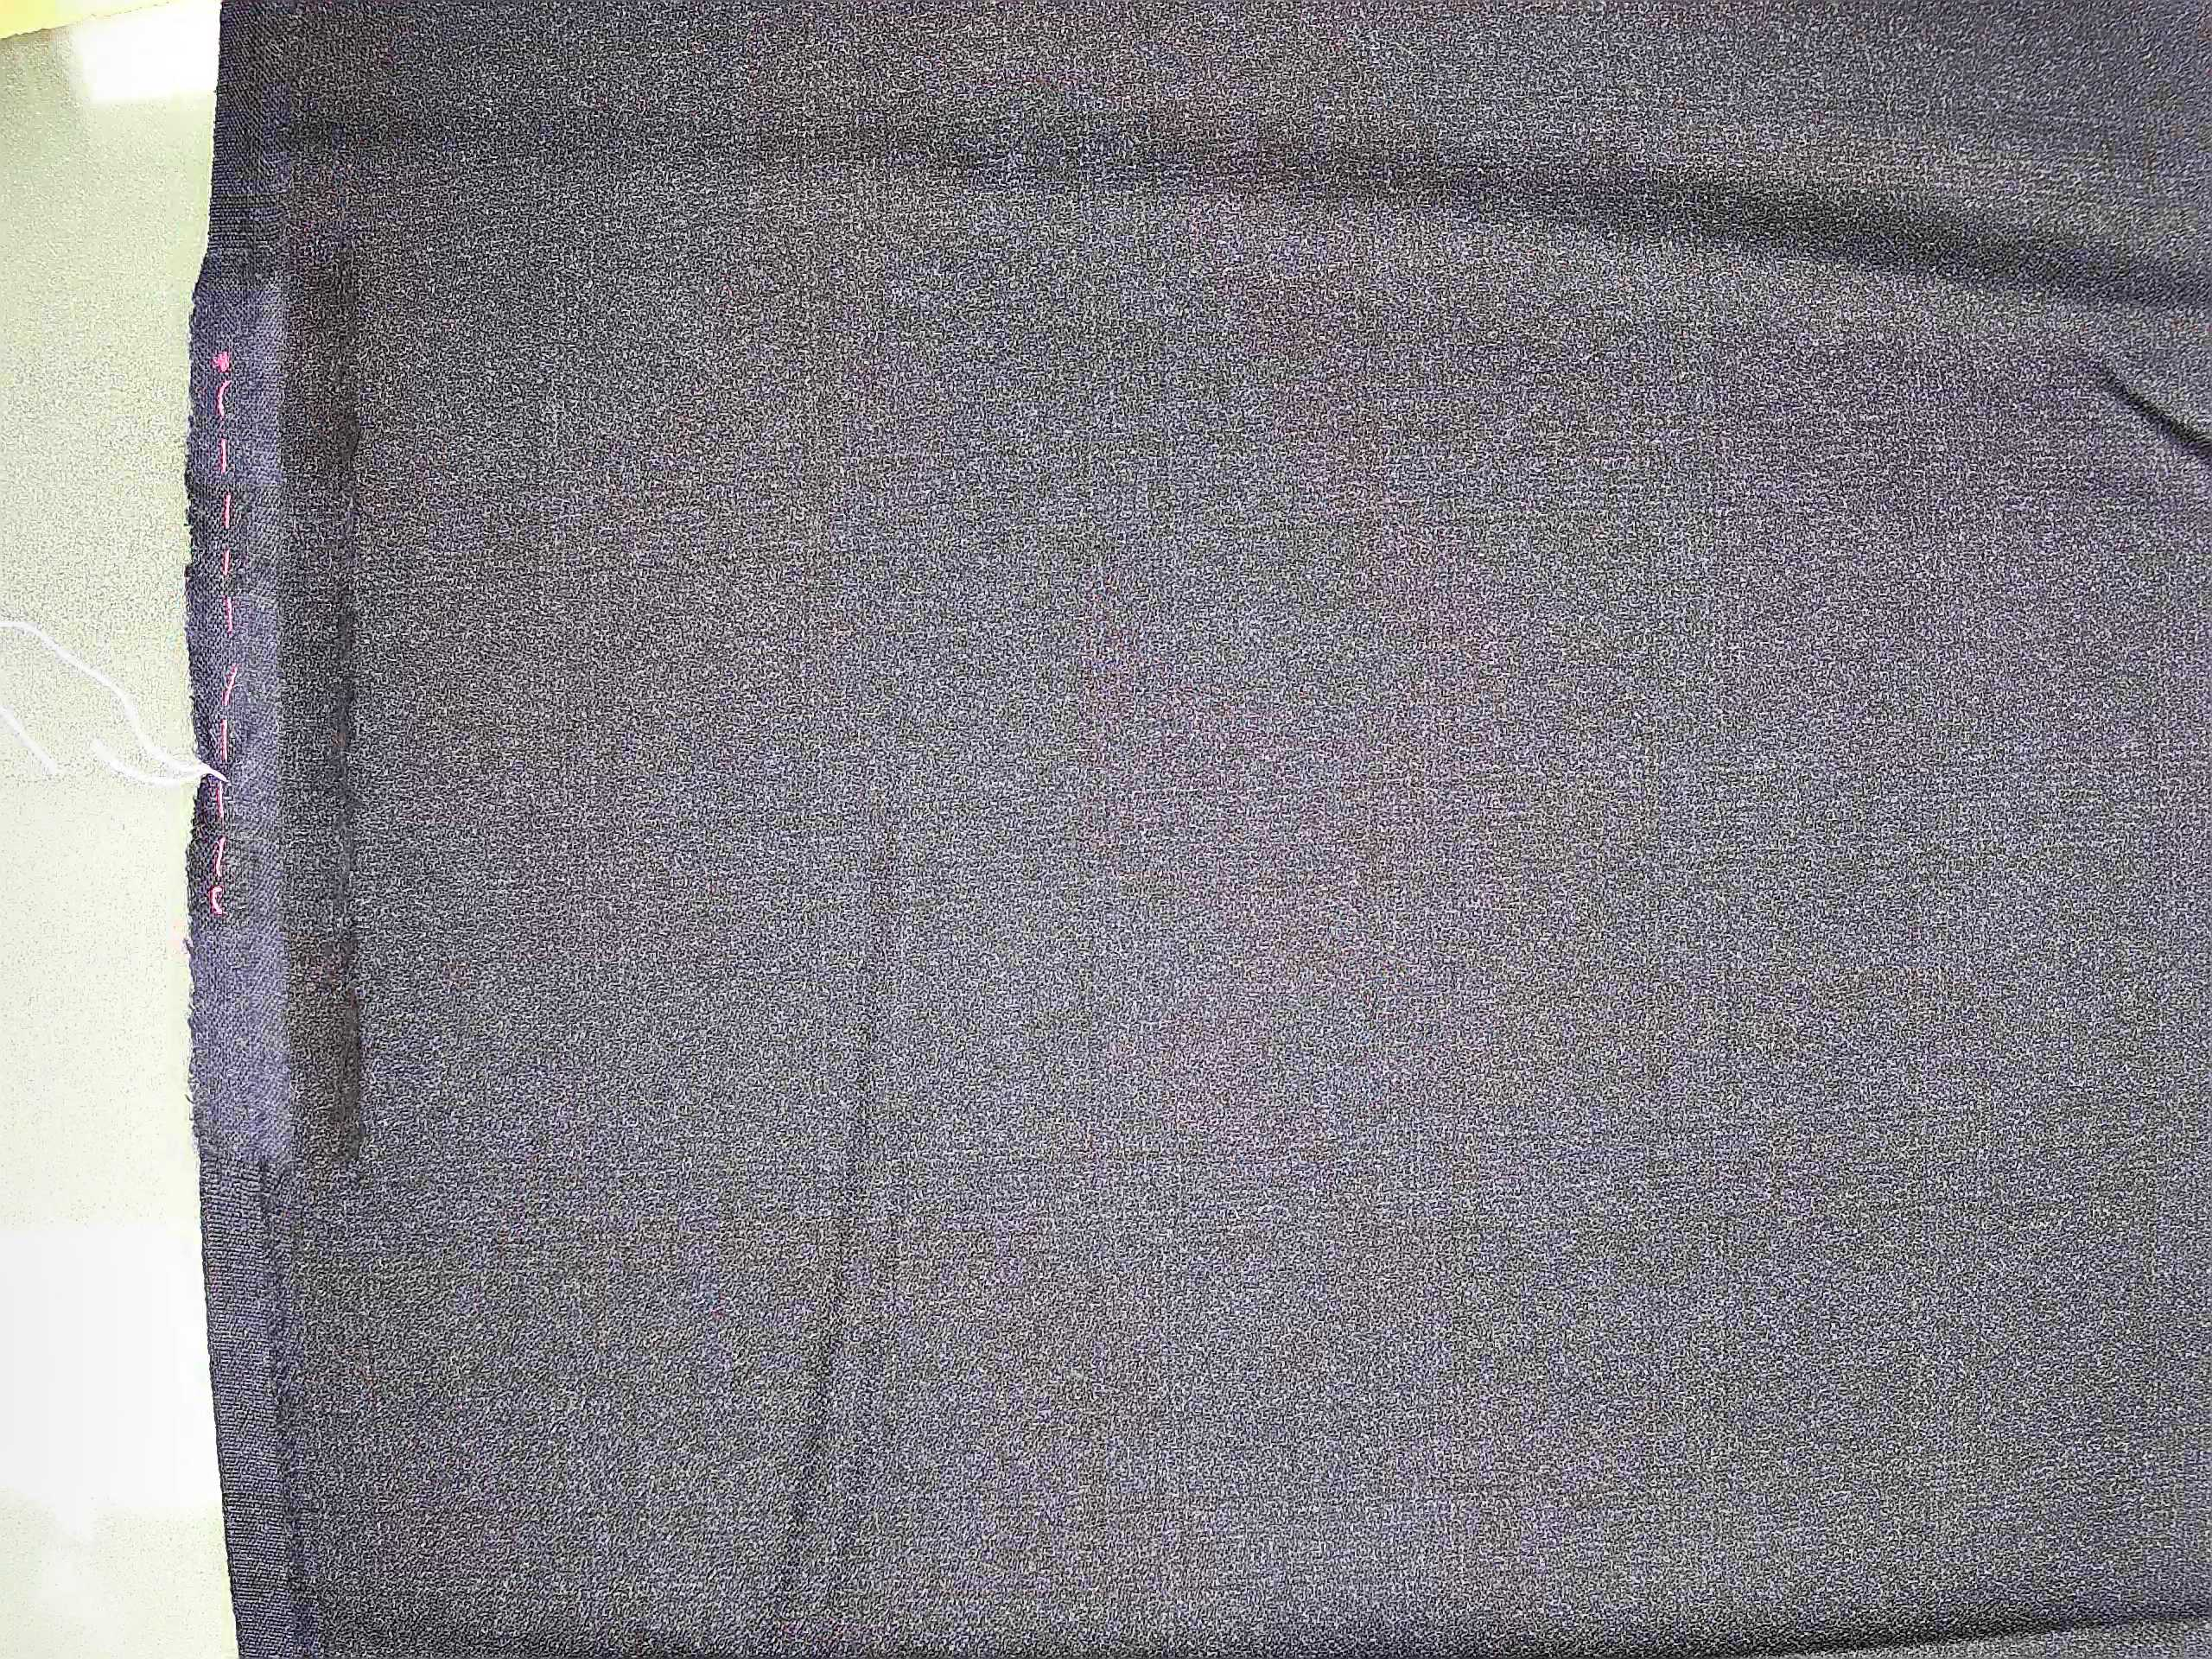others: (294, 246, 404, 1194)
